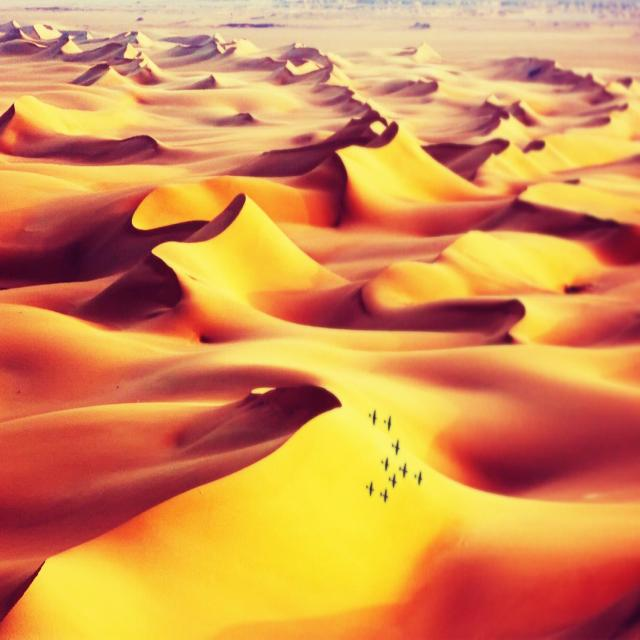airplane: (365, 408, 379, 430), (412, 465, 423, 490), (379, 484, 390, 504), (363, 480, 375, 497), (383, 412, 393, 432), (392, 437, 402, 457), (398, 460, 408, 480), (381, 454, 391, 474), (388, 471, 398, 489)
